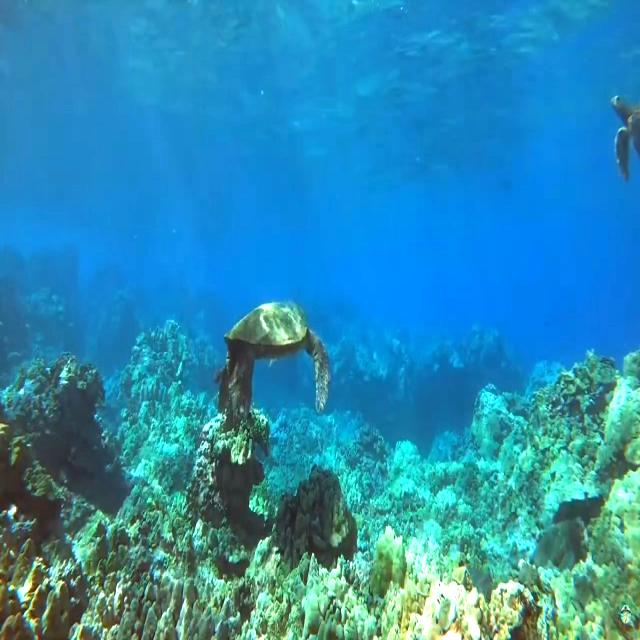Sea turtle: (224, 296, 334, 420)
